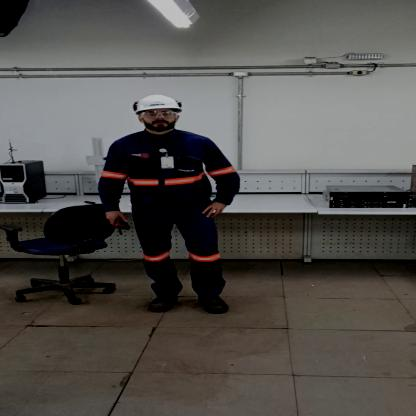Capacete: (130, 93, 190, 111)
